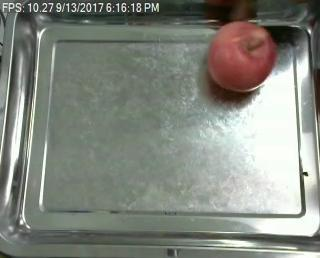apple: (207, 21, 278, 93)
